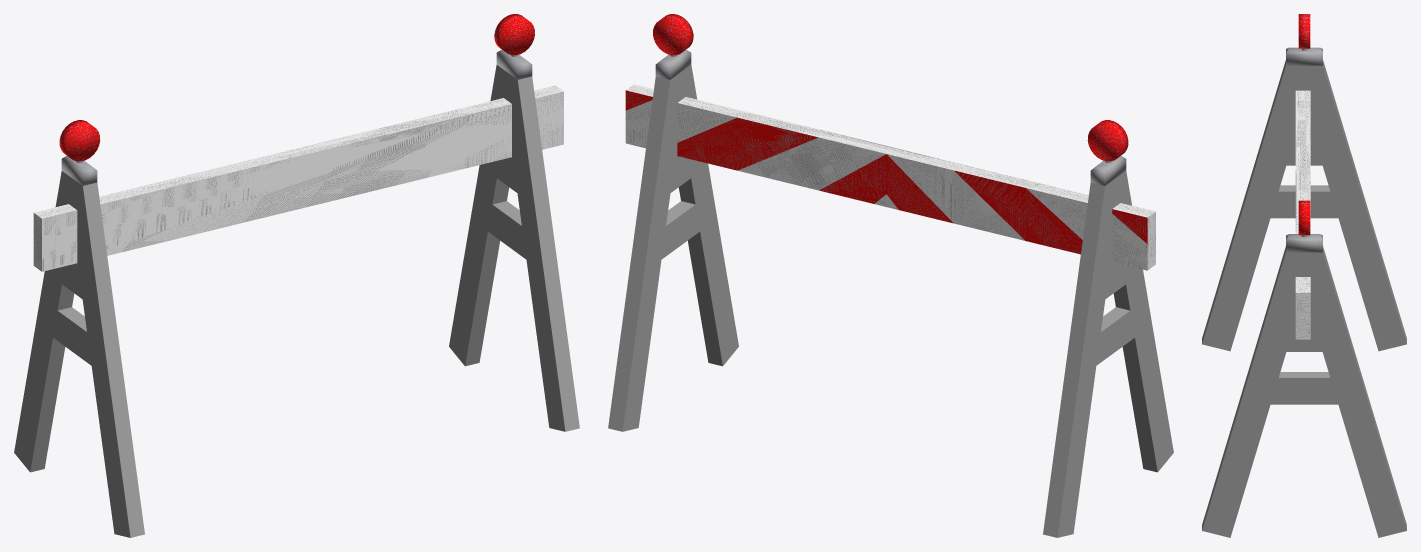
Rendered from Sin+título.dae.
3 views of the same model, side by side, from view 1: azimuth 30°, elevation 25°; view 2: azimuth 150°, elevation 25°; view 3: azimuth 270°, elevation 25° (orthographic). The views are drawn at different scales.
Visible parts, largest first — view 1: Component_6 (×2), group_0 (×2), Componente_2 (×4); view 2: Component_6 (×2), group_0 (×8), Componente_2 (×4); view 3: Component_6 (×3), group_0, Componente_2 (×4).
Boxes of the visible parts, x1,y1,x2,y2 form: Component_6 (×2): (14, 65, 579, 537); group_0 (×2): (33, 85, 563, 271); Componente_2 (×4): (59, 14, 534, 185); Component_6 (×2): (608, 65, 1173, 537); group_0 (×8): (625, 84, 1155, 270); Componente_2 (×4): (653, 14, 1128, 185); Component_6 (×3): (1202, 60, 1406, 537); group_0: (1295, 90, 1310, 339); Componente_2 (×4): (1286, 14, 1322, 252).
Bounding box in the file's own units: 72 × 27.84 × 49.91.
